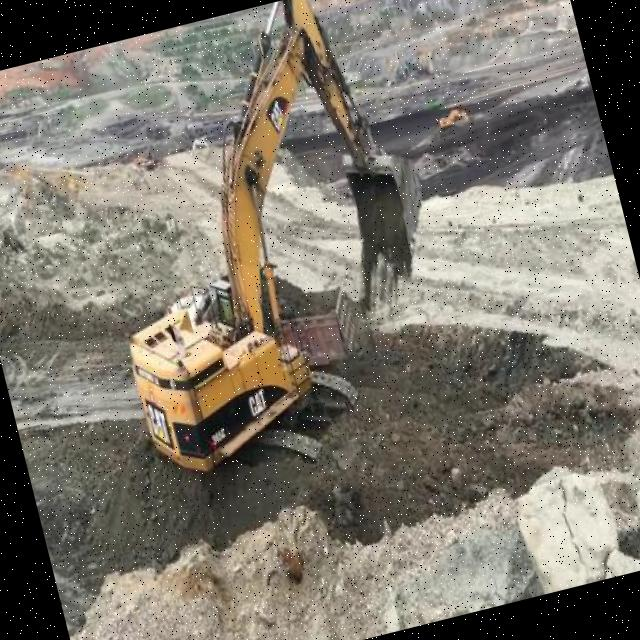Dump Truck: (273, 268, 365, 378)
Excavator: (45, 0, 481, 493), (432, 102, 473, 134)
